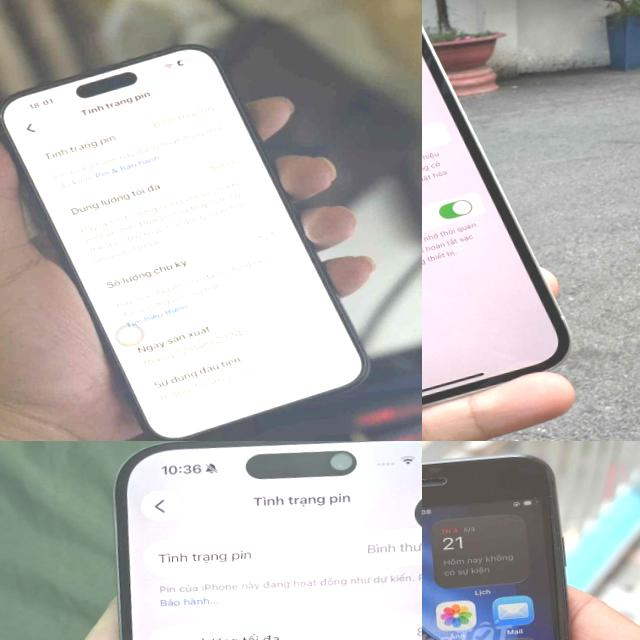gen_12_13: (422, 0, 576, 441)
gen_15: (73, 441, 422, 640)
gen_16: (1, 45, 363, 439)
gen_7_8: (422, 443, 603, 640)
